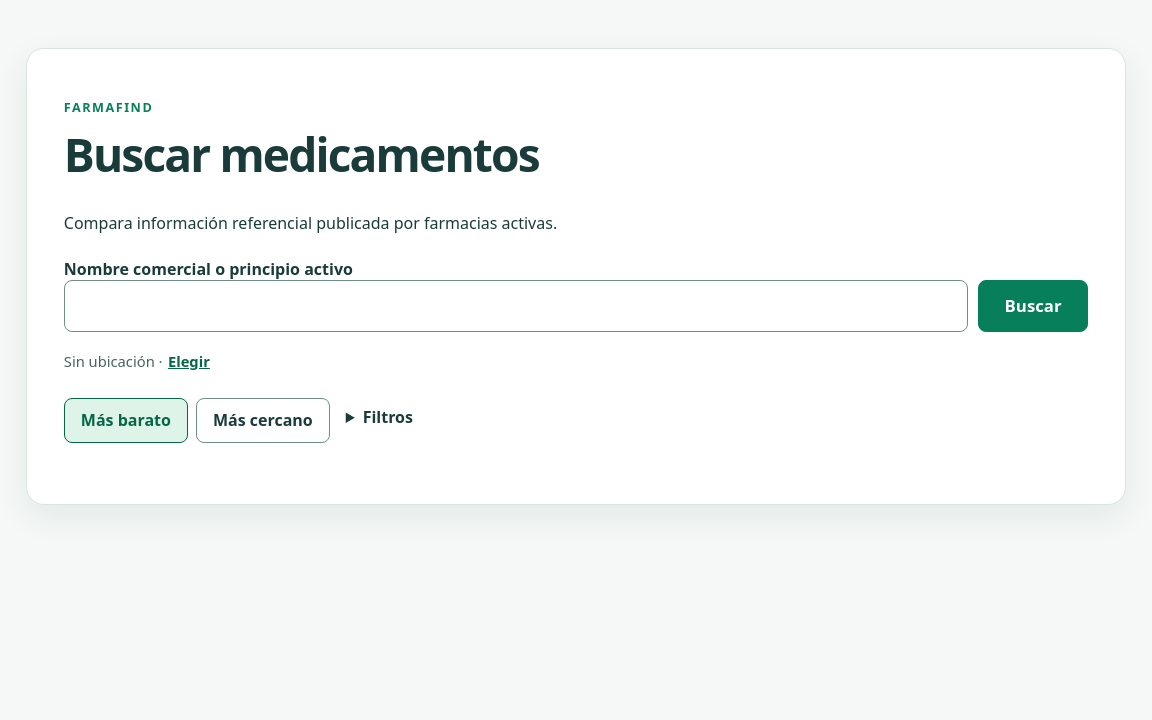
Scenario: F08.1 búsqueda unificada › si la ubicación del dispositivo se niega, la búsqueda sigue disponible con un mensaje claro
Click the button "Elegir". click: (189, 361)
box: [166,351,211,371]
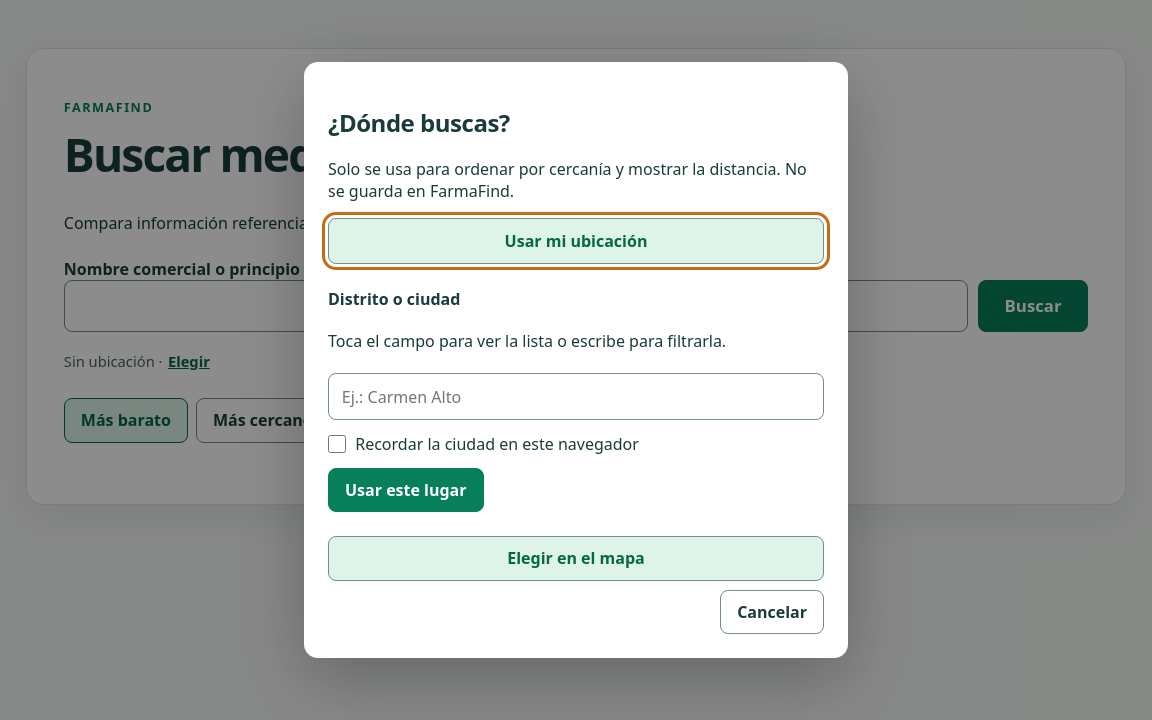
Click the button "Usar mi ubicación". click: (576, 241)
box: [328,218,824,264]
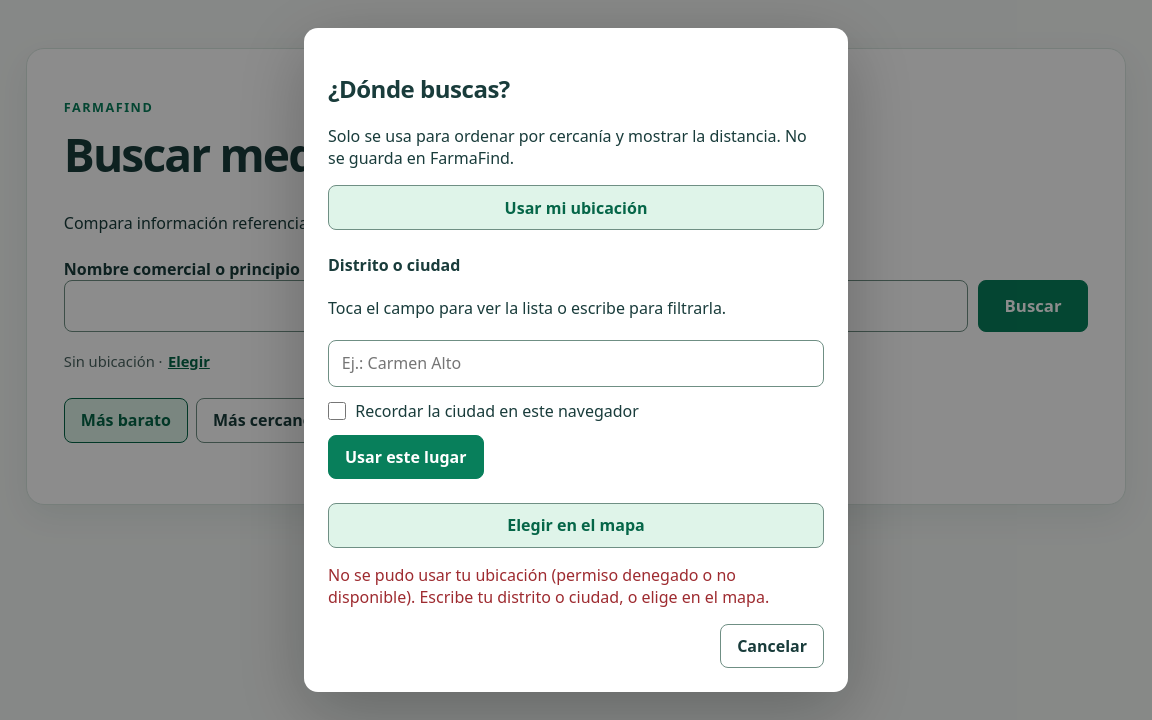
Now the message shows "permiso denegado", box [328,564,769,608]
Click the button "Cancelar". click: (772, 646)
box: [720,624,824,668]
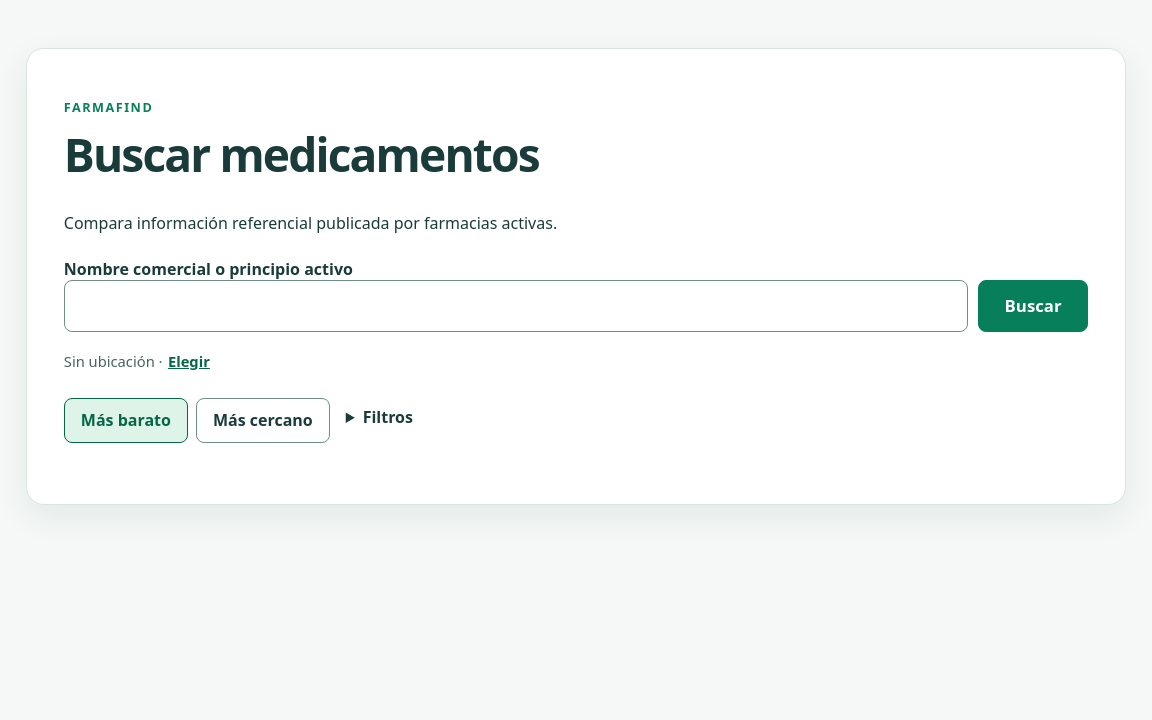
Expected: the button "Buscar" is enabled, [978,280,1088,332]
Now the dialog is gone
